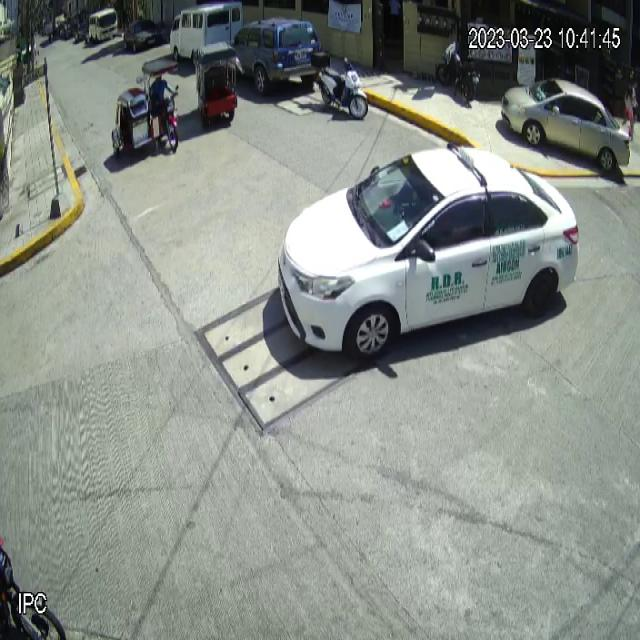Car: (277, 140, 582, 360), (501, 79, 631, 172), (233, 15, 321, 97)
Motorcycle: (312, 51, 368, 120)
Tricycle: (110, 56, 180, 158)
Van: (169, 0, 243, 67)
